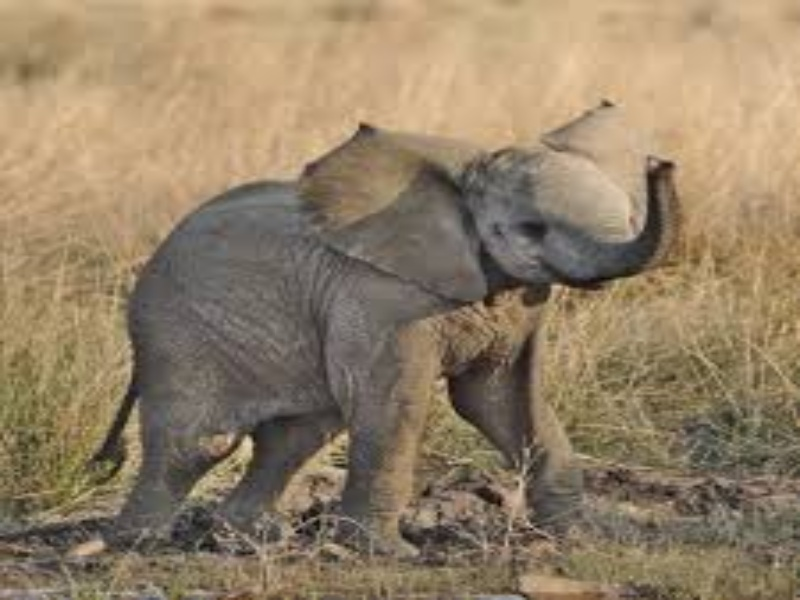elephant: (86, 79, 691, 567)
